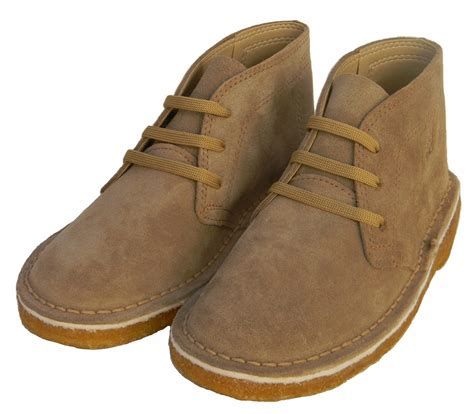gamuza: (16, 21, 459, 379)
